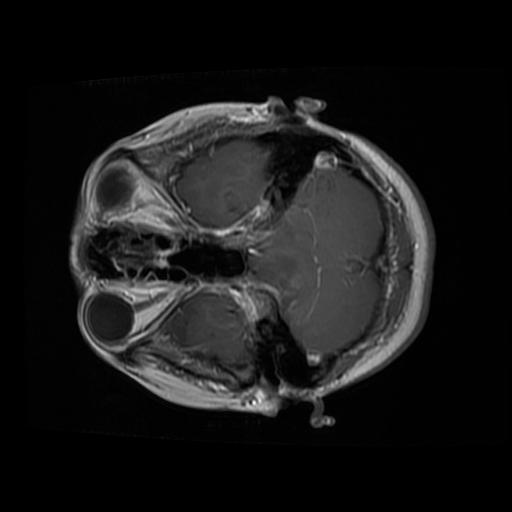glioma: (248, 222, 305, 316)
